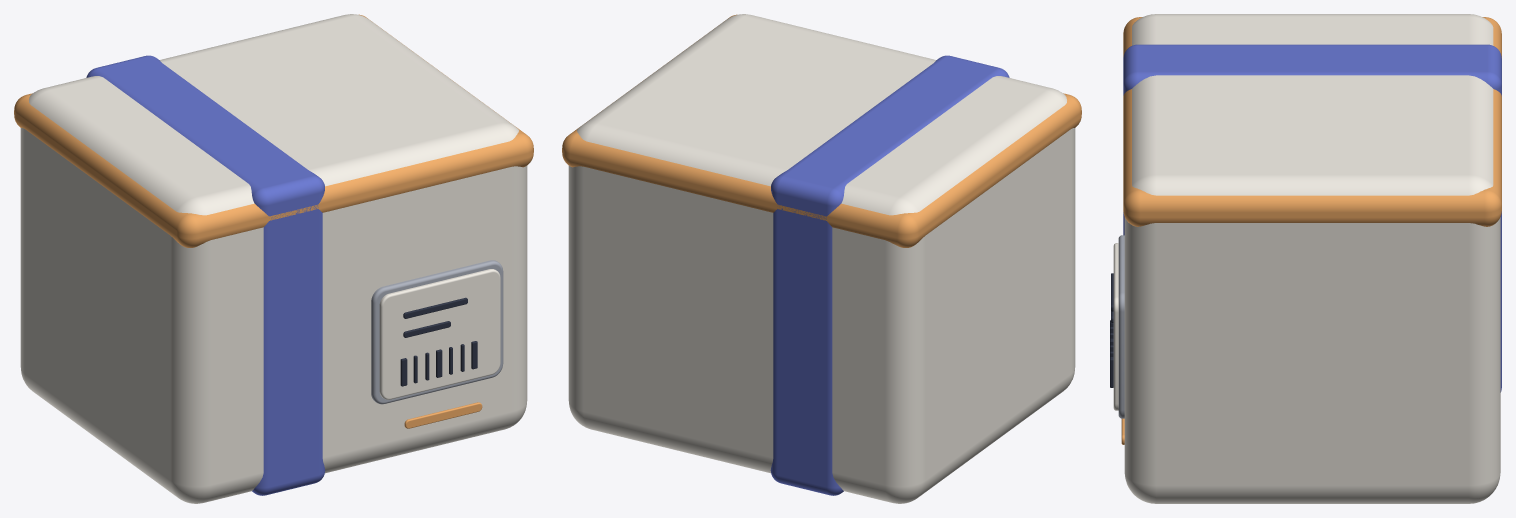
The model's file is package.glb.
3 renders of one model, left to right at view 1: azimuth 30°, elevation 25°; view 2: azimuth 150°, elevation 25°; view 3: azimuth 270°, elevation 25°, orthographic. The views are drawn at different scales.
Parts seen in each view (by area): view 1: package; view 2: package; view 3: package.
Boxes of the visible parts, left/top/right/bottom form: package: left=14, top=14, right=533, bottom=503; package: left=562, top=14, right=1081, bottom=503; package: left=1110, top=14, right=1501, bottom=503.
Bounding box in the file's own units: 1.66 × 1.37 × 1.48.
